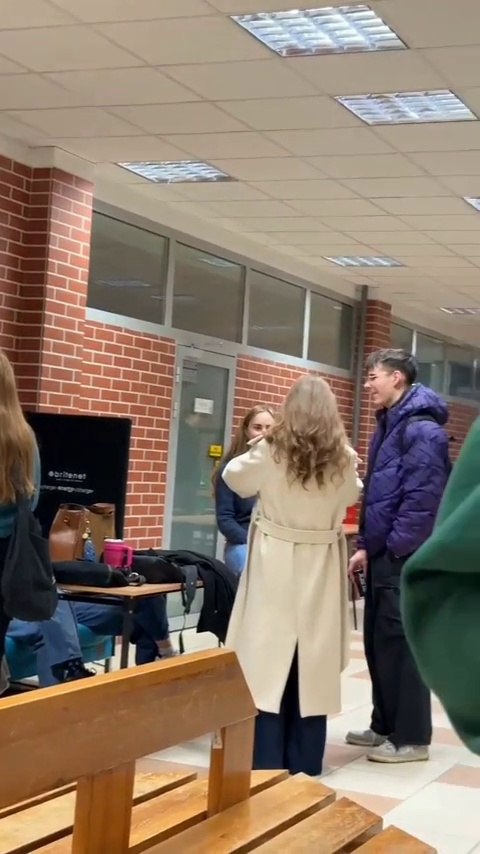no vest: (212, 365, 349, 733), (358, 347, 444, 731), (0, 338, 52, 675)
